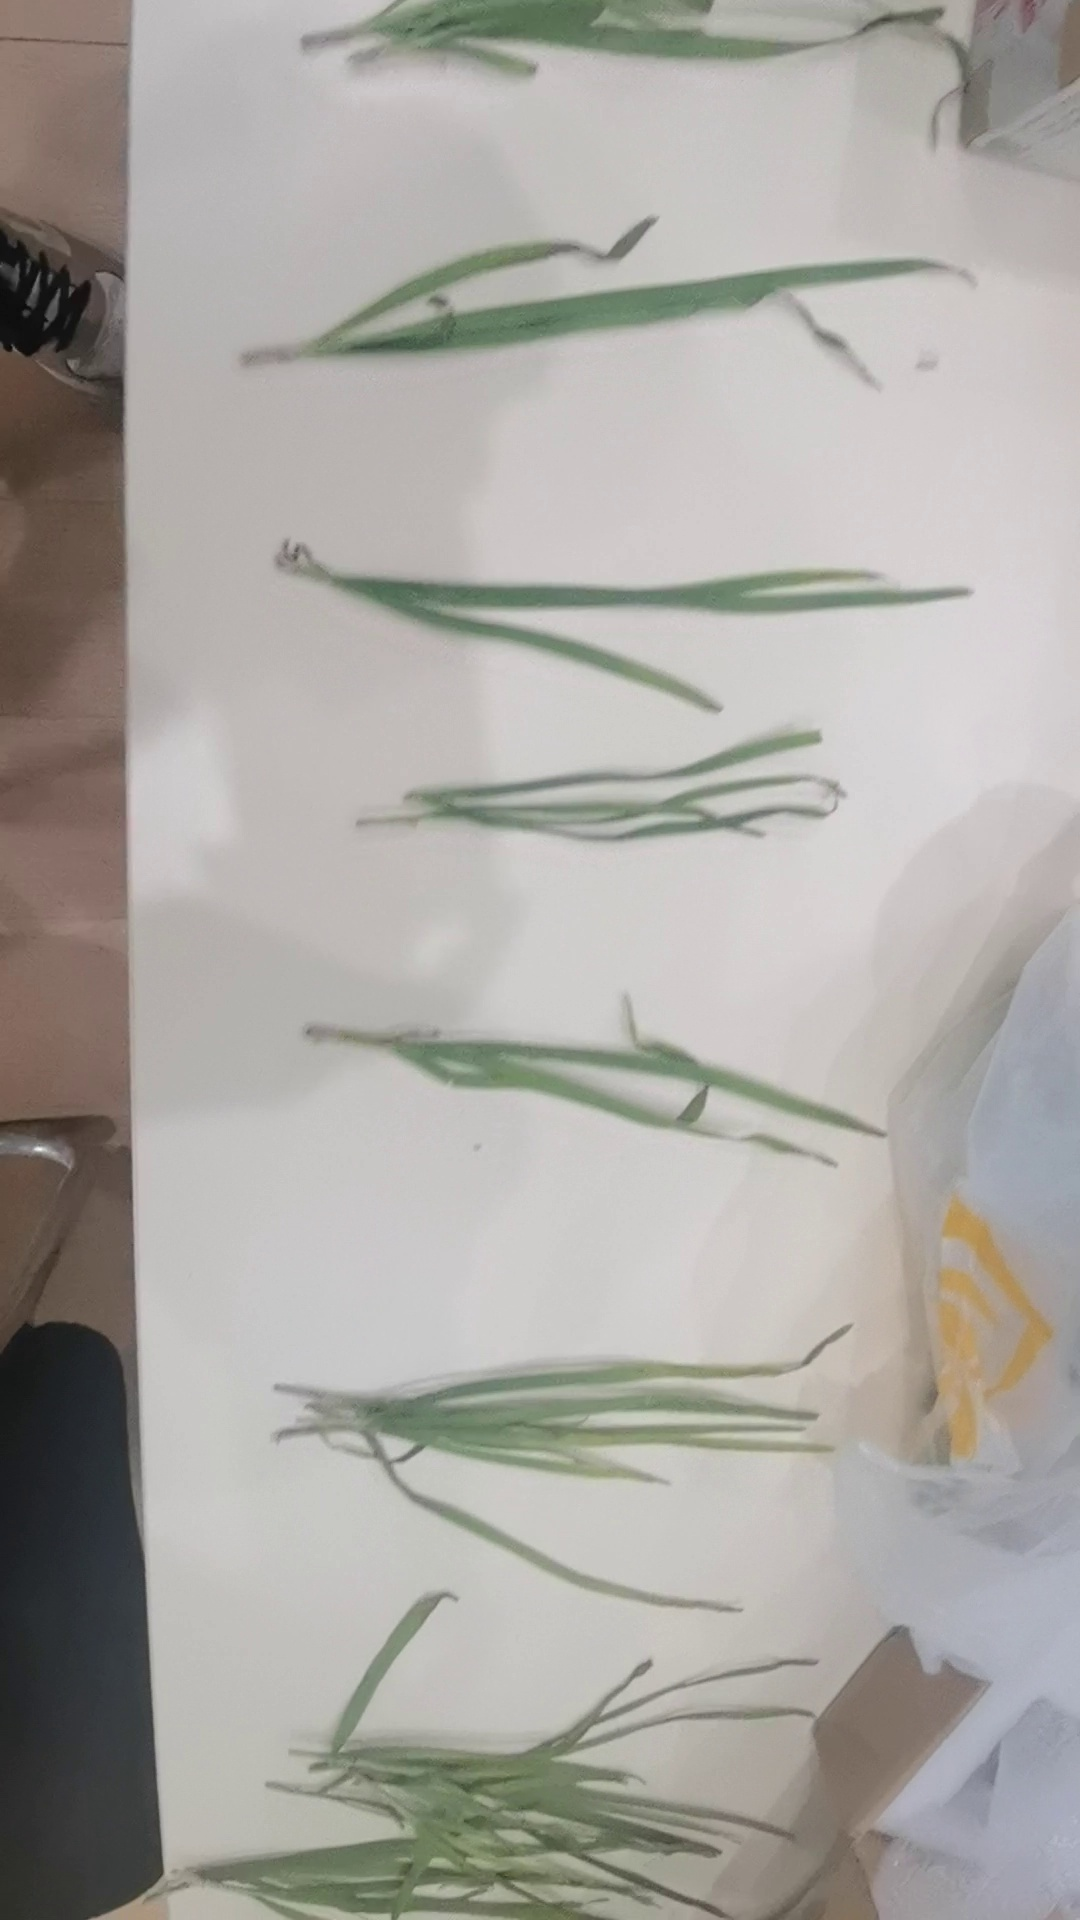chives: (218, 1317, 940, 1607), (216, 200, 1002, 415), (183, 1688, 867, 1920), (243, 504, 992, 690), (298, 994, 938, 1184), (357, 713, 934, 886), (269, 7, 989, 121)
